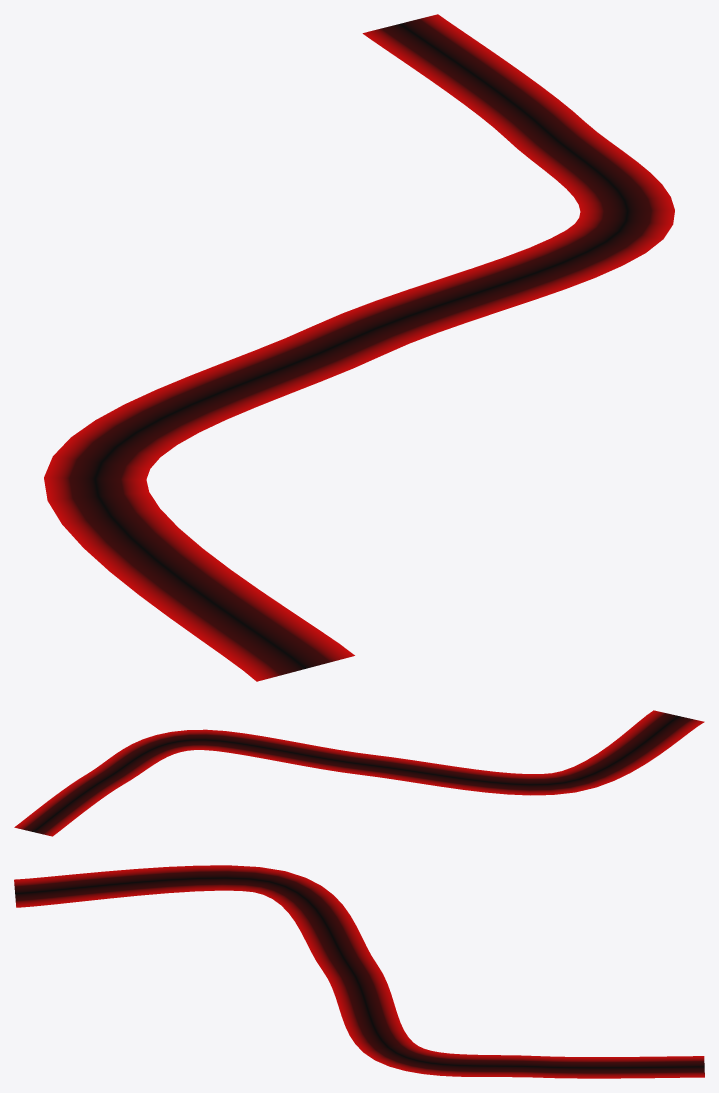
Rendered from CoastalCave_Entrance_Runoff.fbx.
3 views of the same model, one above another, from view 1: azimuth 30°, elevation 25°; view 2: azimuth 150°, elevation 25°; view 3: azimuth 270°, elevation 25° (orthographic). The views are drawn at different scales.
Visible parts, largest first — view 1: CoastalCave_Entrance_Runoff; view 2: CoastalCave_Entrance_Runoff; view 3: CoastalCave_Entrance_Runoff.
Part boxes in pixels (x1,y1,x2,y2): CoastalCave_Entrance_Runoff: [44, 14, 674, 681]; CoastalCave_Entrance_Runoff: [14, 710, 704, 836]; CoastalCave_Entrance_Runoff: [14, 865, 704, 1078].
Size of the model in its own units: 7.93 by 0.355 by 10.32.
